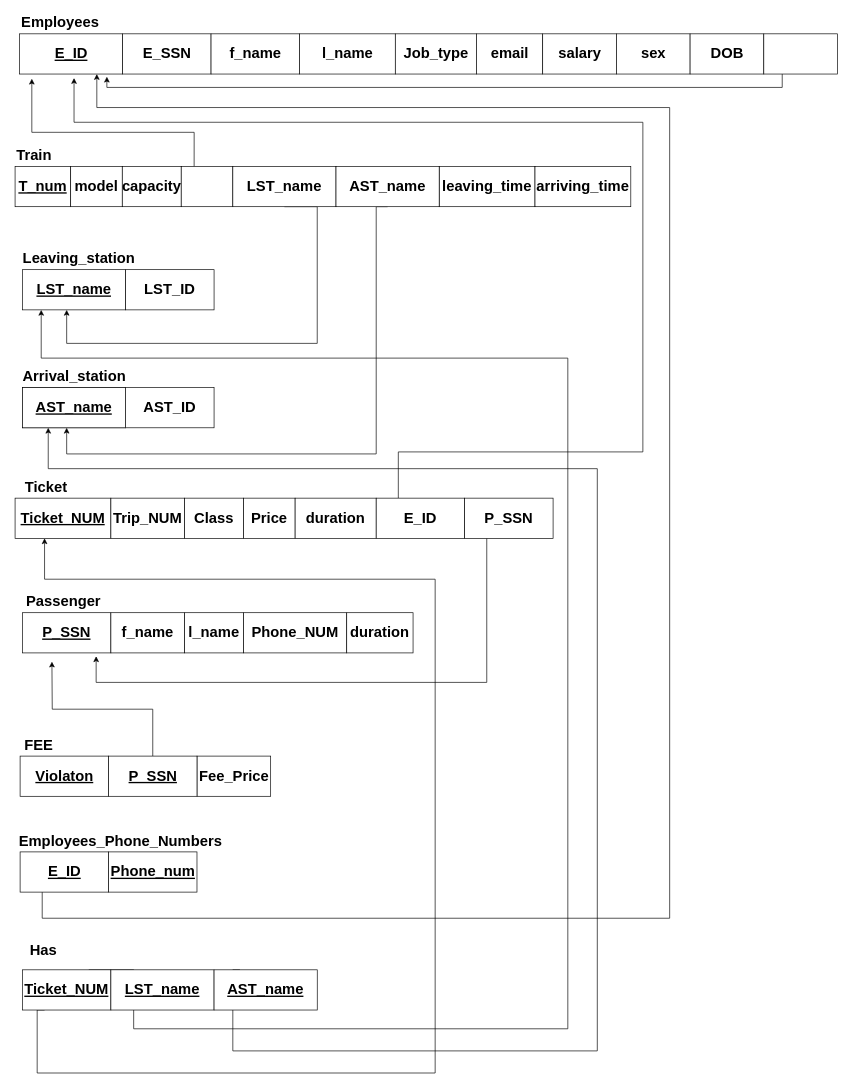
Some shapes in this 849 by 1090 pixel diagram are drawn without their labels. The box of each missing label's shape, as (x1, y1, x2, y2) in pixels:
E-ID: (181, 166, 233, 207)
Super_EID: (763, 33, 838, 74)
